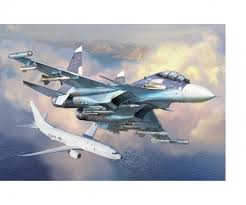maybay_muctieu: (21, 47, 208, 147)
